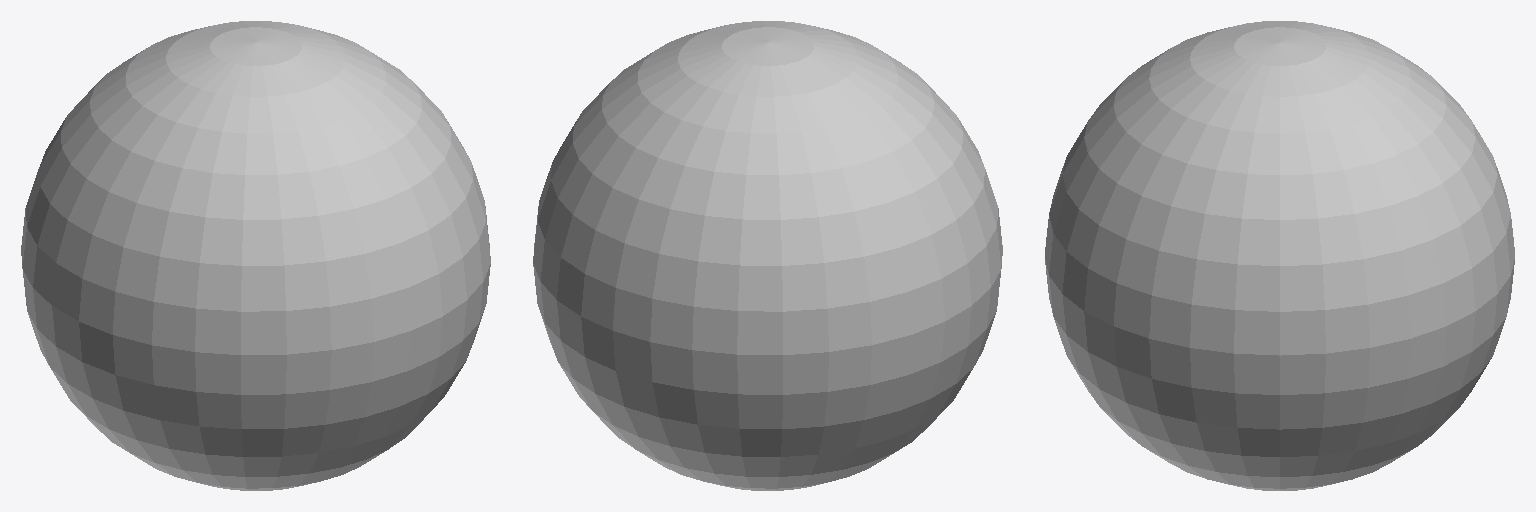
The model's file is fireball.obj.
3 renders of one model, left to right at view 1: azimuth 30°, elevation 25°; view 2: azimuth 150°, elevation 25°; view 3: azimuth 270°, elevation 25°, orthographic.
Parts seen in each view (by area): view 1: Sphere; view 2: Sphere; view 3: Sphere.
Part boxes in pixels (left/top/right/bottom): Sphere: left=21, top=21, right=490, bottom=490; Sphere: left=533, top=21, right=1002, bottom=490; Sphere: left=1045, top=21, right=1514, bottom=490.
Bounding box in the file's own units: 2 × 2 × 2.